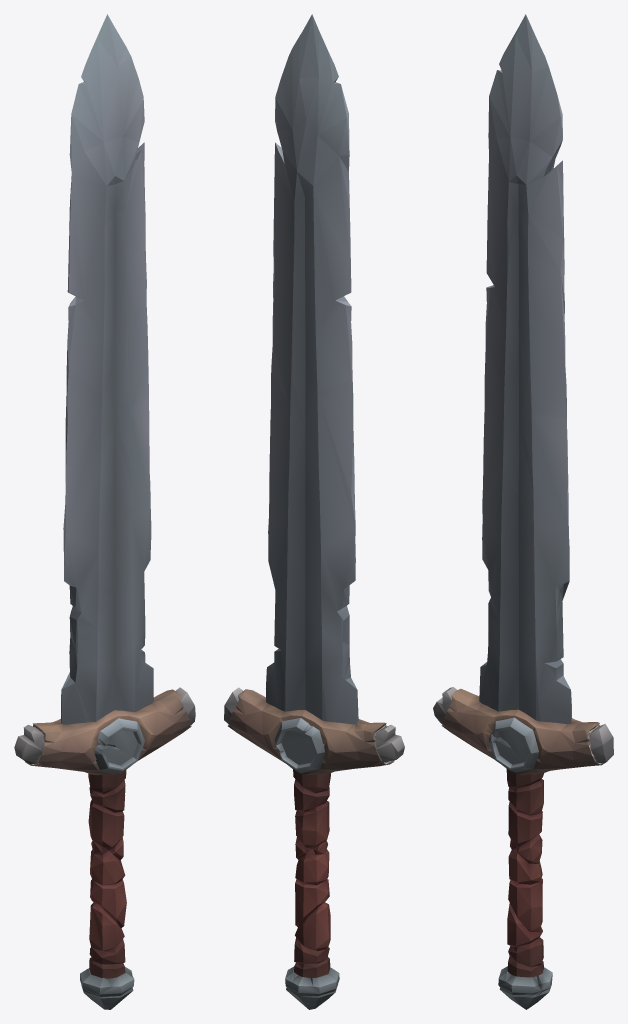
The model's file is epic_GreatSword.fbx.
3 renders of one model, left to right at view 1: azimuth 30°, elevation 25°; view 2: azimuth 150°, elevation 25°; view 3: azimuth 330°, elevation 25°, orthographic.
Parts seen in each view (by area): view 1: GreatSword; view 2: GreatSword; view 3: GreatSword.
Boxes of the visible parts, x1,y1,x2,y2 form: GreatSword: (14,14,195,1009); GreatSword: (224,14,404,1009); GreatSword: (433,14,613,1009).
Size of the model in its own units: 0.4749 by 2.6 by 0.1498.
